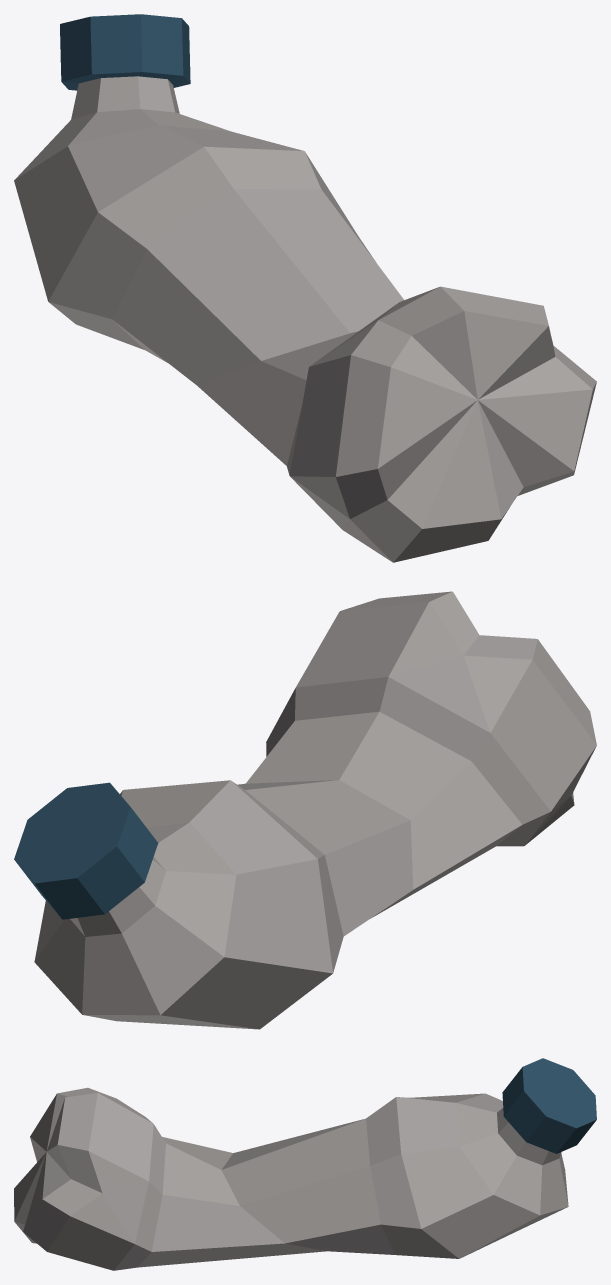
File: SM_Prop_Rubbish_Bottle_03.glb
3 views of the same model, one above another, from view 1: azimuth 30°, elevation 25°; view 2: azimuth 150°, elevation 25°; view 3: azimuth 270°, elevation 25° (orthographic). The views are drawn at different scales.
Visible parts, largest first — view 1: SM_Prop_Rubbish_Bottle_03; view 2: SM_Prop_Rubbish_Bottle_03; view 3: SM_Prop_Rubbish_Bottle_03.
Part boxes in pixels (<box>): SM_Prop_Rubbish_Bottle_03: <box>14,14,596,562</box>; SM_Prop_Rubbish_Bottle_03: <box>14,591,596,1029</box>; SM_Prop_Rubbish_Bottle_03: <box>14,1058,596,1270</box>.
Size of the model in its own units: 0.1505 by 0.1336 by 0.3897.
1 material, 1 textured.
